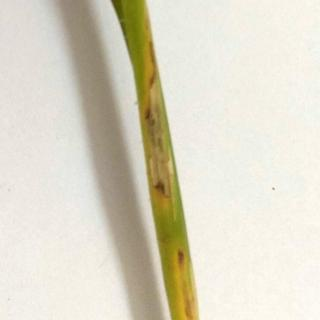bercak-Cokelat: (142, 38, 162, 92), (174, 243, 190, 272), (144, 104, 156, 127), (152, 183, 170, 196)
